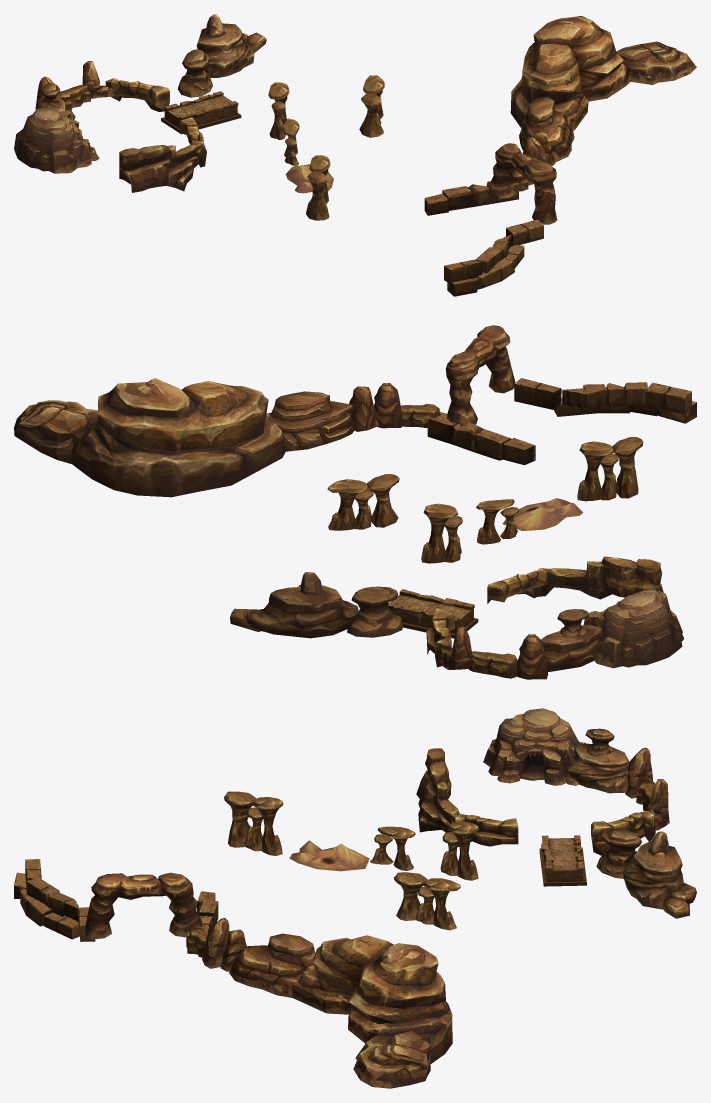
File: ShiTou_Temp.FBX
3 views of the same model, one above another, from view 1: azimuth 30°, elevation 25°; view 2: azimuth 150°, elevation 25°; view 3: azimuth 270°, elevation 25° (orthographic). The views are drawn at different scales.
Visible parts, largest first — view 1: ShiTou01; view 2: ShiTou01; view 3: ShiTou01.
Part boxes in pixels (x1,y1,x2,y2): ShiTou01: (14, 14, 696, 296); ShiTou01: (14, 325, 696, 679); ShiTou01: (14, 708, 696, 1088).
Bounding box in the file's own units: 3335 × 431 × 2823.
